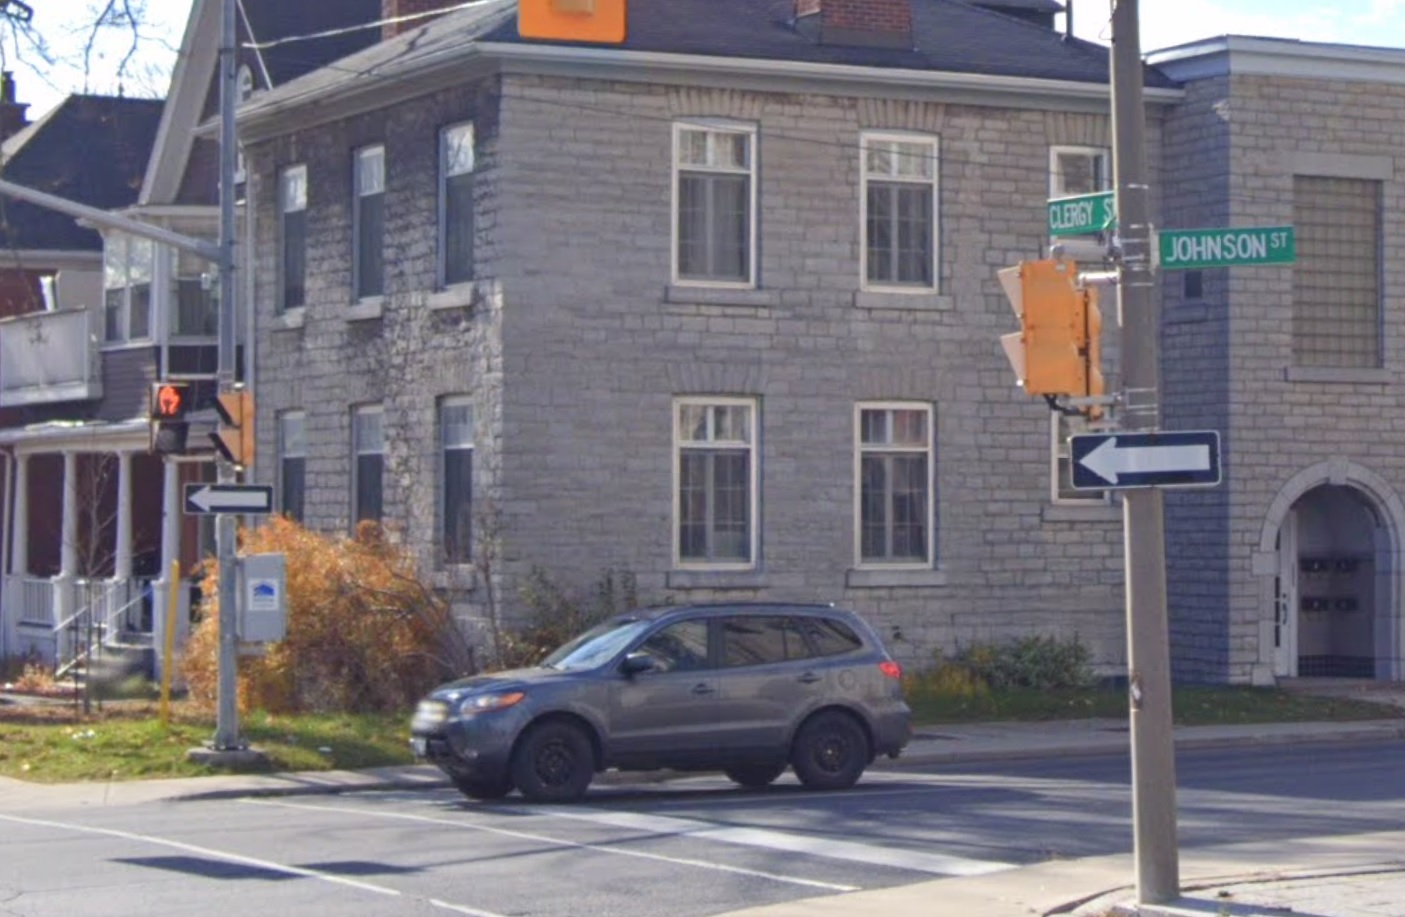sign_oneway_left: (1066, 428, 1223, 491), (179, 481, 276, 516)
